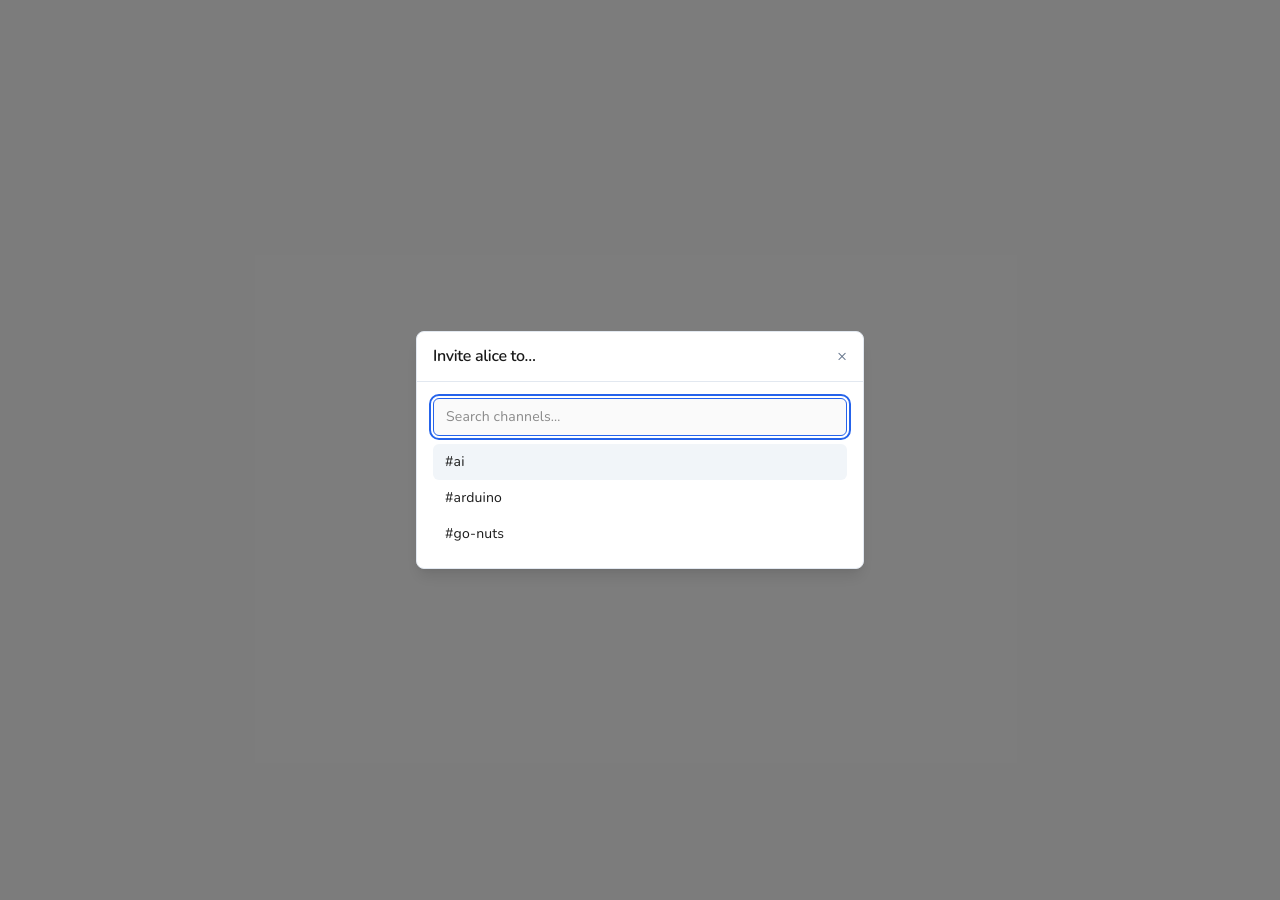
Test case: InviteToChannelModal › lists joined channels except the current one and filters on typing
Expected: the button "#arduino" is shown, [433, 480, 847, 516]
In the field with placeholder "Search channels…": (640, 417) [433, 398, 847, 436], type "ard"
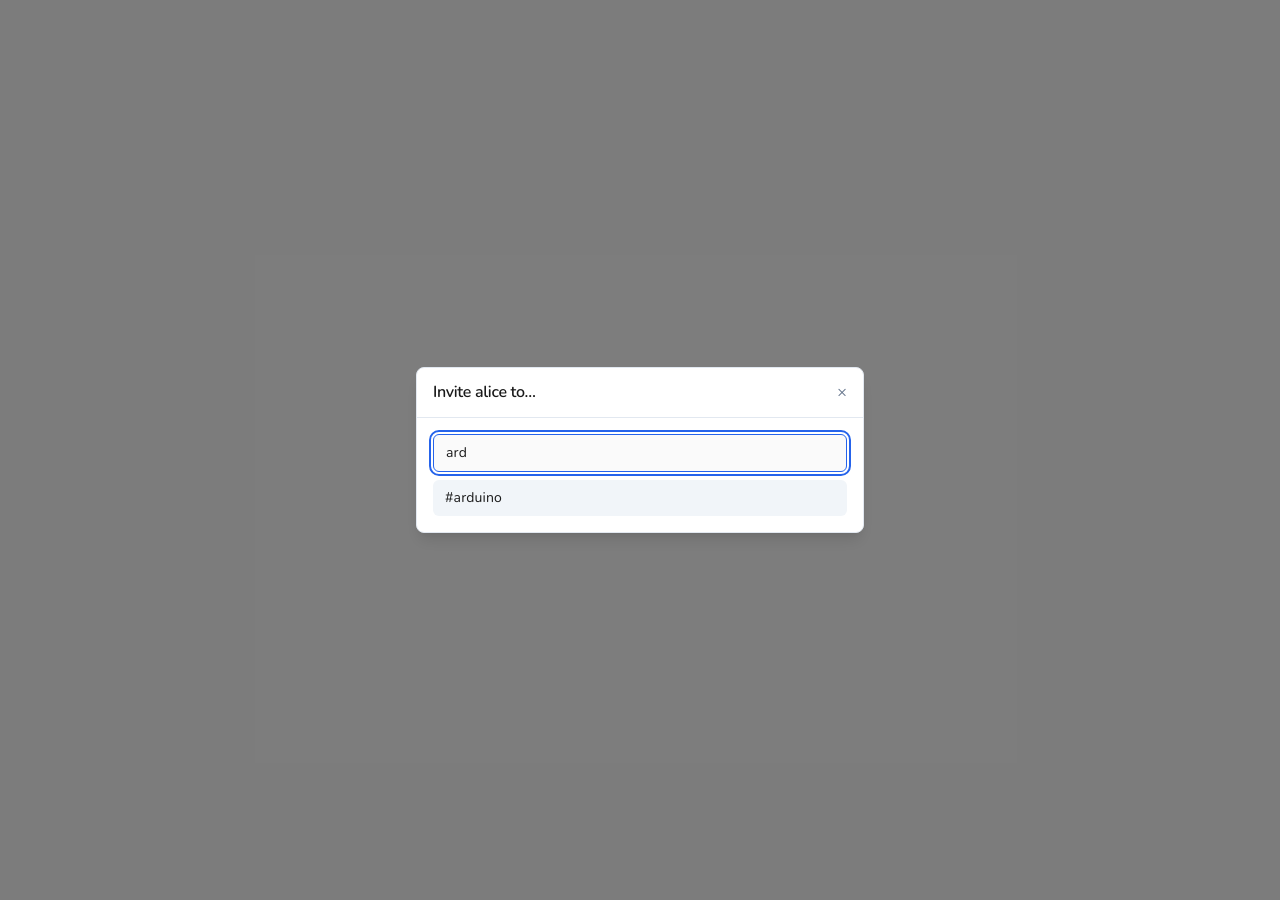
Expected: the button "#arduino" is shown, [433, 480, 847, 516]
Expected: the button "#ai" is gone
